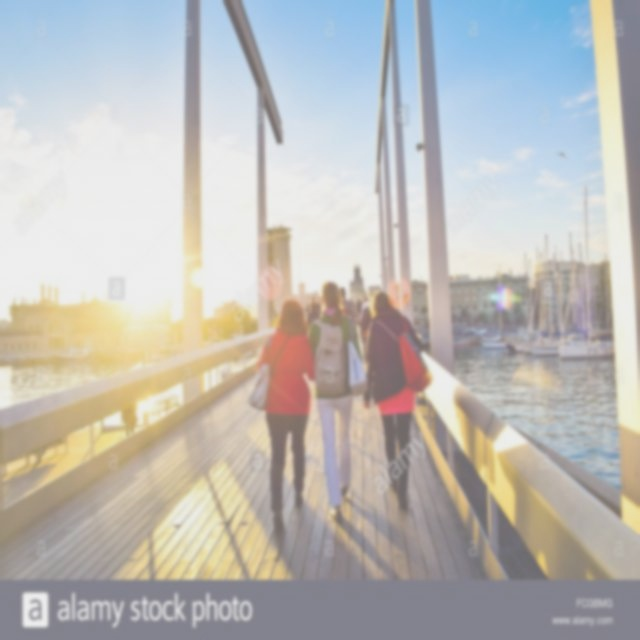pessoa: (245, 298, 318, 538), (360, 287, 433, 515), (308, 282, 368, 522), (360, 306, 372, 366), (120, 402, 140, 437), (339, 286, 357, 324), (360, 296, 372, 348), (306, 300, 322, 333), (347, 296, 357, 328), (314, 294, 322, 328), (306, 296, 318, 314), (356, 297, 360, 315)
